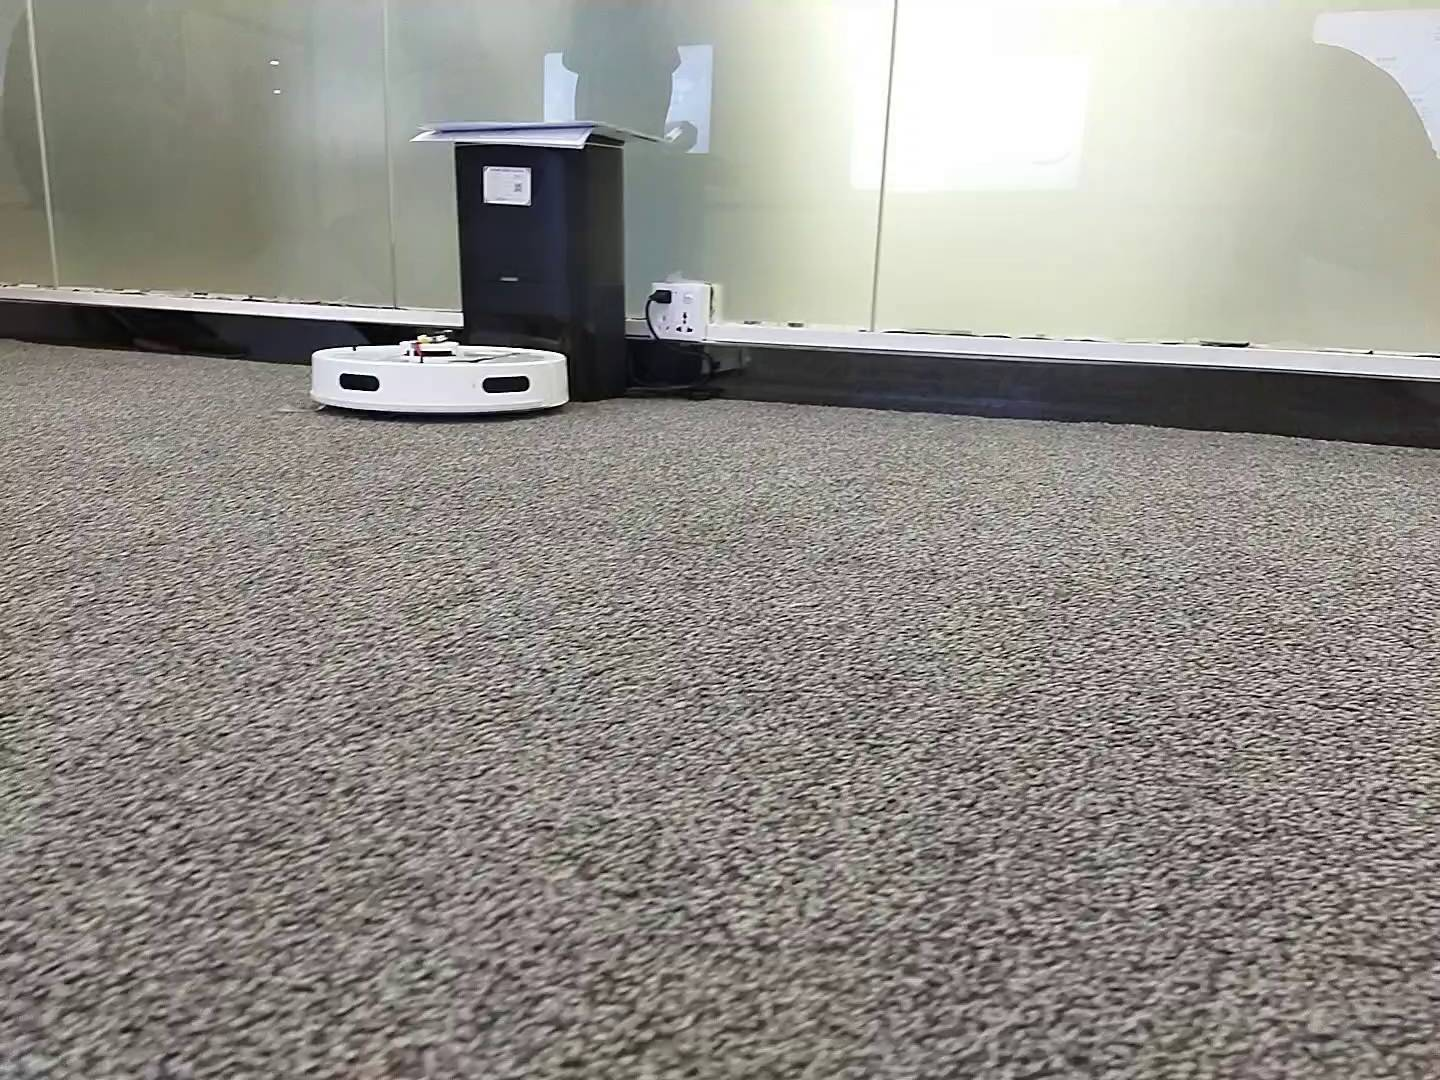dust collecting barrel: (454, 130, 628, 402)
